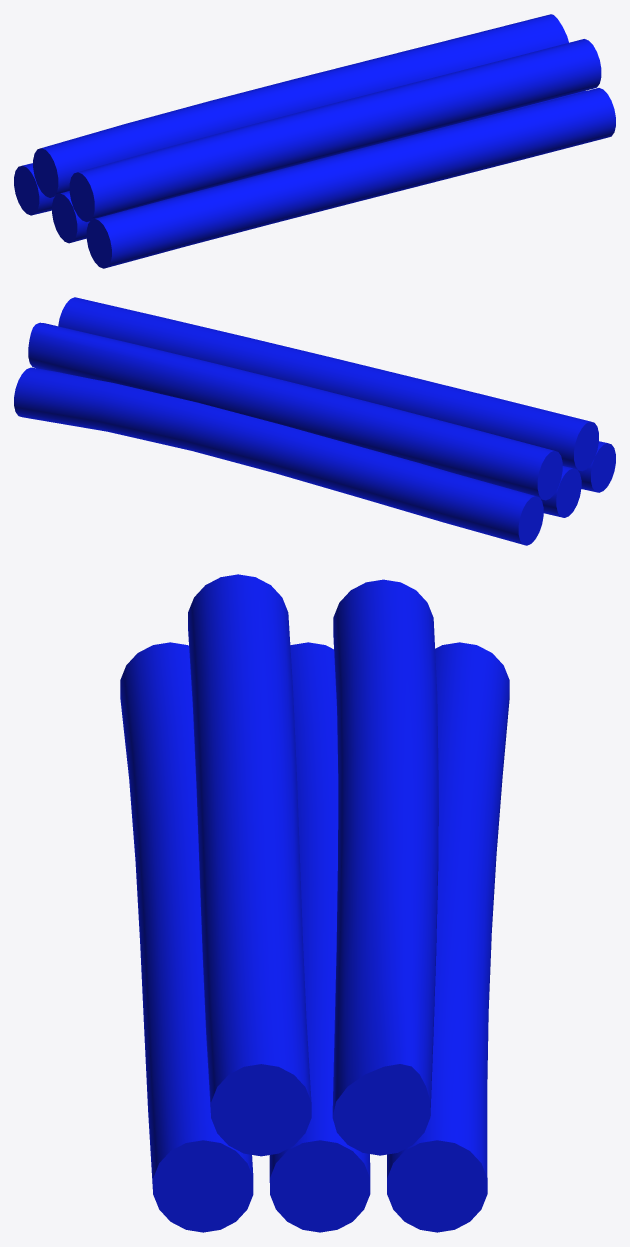
File: woods.FBX
3 views of the same model, one above another, from view 1: azimuth 30°, elevation 25°; view 2: azimuth 150°, elevation 25°; view 3: azimuth 270°, elevation 25° (orthographic). The views are drawn at different scales.
Visible parts, largest first — view 1: wood_04_LP, wood_05_LP, wood_02_LP, wood_03_LP, wood_01_LP; view 2: wood_01_LP, wood_02_LP, wood_04_LP, wood_03_LP, wood_05_LP; view 3: wood_04_LP, wood_02_LP, wood_05_LP, wood_01_LP, wood_03_LP.
Part boxes in pixels (<box>): wood_04_LP: <box>69,39,601,221</box>; wood_05_LP: <box>86,88,615,268</box>; wood_02_LP: <box>33,14,568,197</box>; wood_03_LP: <box>52,91,585,243</box>; wood_01_LP: <box>14,163,54,215</box>; wood_01_LP: <box>14,367,543,545</box>; wood_02_LP: <box>28,322,562,500</box>; wood_04_LP: <box>58,297,598,471</box>; wood_03_LP: <box>541,466,581,517</box>; wood_05_LP: <box>578,441,615,492</box>; wood_04_LP: <box>188,574,311,1156</box>; wood_02_LP: <box>332,579,438,1155</box>; wood_05_LP: <box>120,642,253,1232</box>; wood_01_LP: <box>387,642,509,1232</box>; wood_03_LP: <box>269,642,370,1232</box>.
Bounding box in the file's own units: 250 × 39.5 × 82.68.
